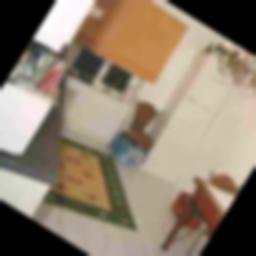Armario: (142, 55, 256, 199)
